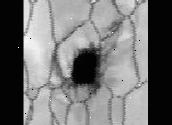good_void: (67, 41, 109, 90)
